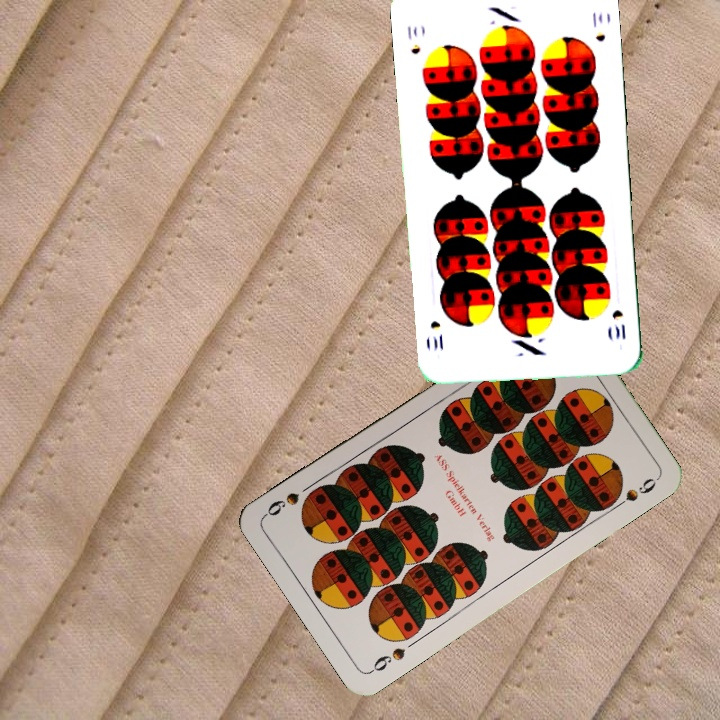S10: (608, 305, 628, 342), (403, 22, 423, 57)
S9: (366, 643, 408, 676)
